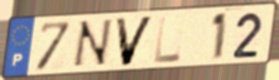1: (210, 11, 230, 62)
2: (228, 9, 267, 62)
7: (35, 19, 73, 72)
L: (153, 14, 183, 66)
N: (69, 17, 115, 71)
V: (113, 14, 157, 68)
